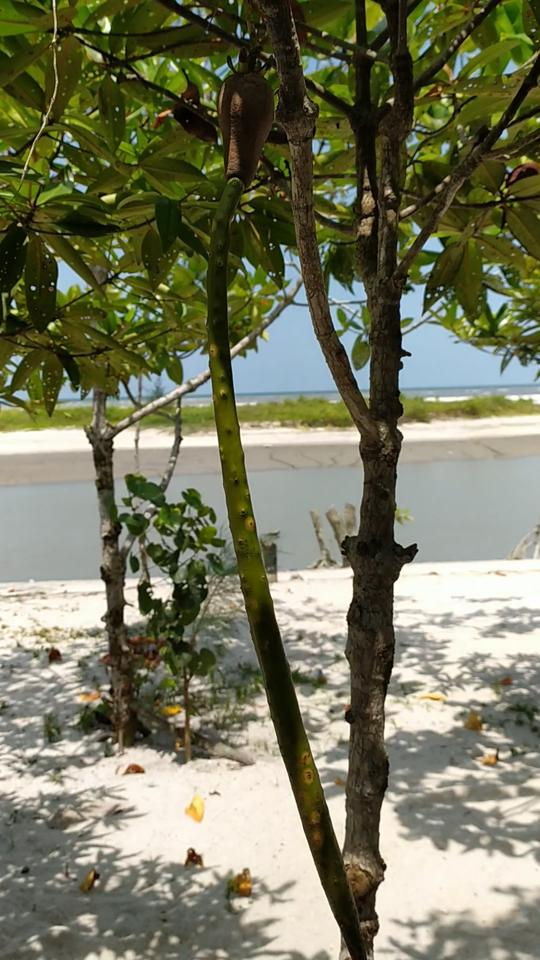setengah matang: (183, 53, 390, 959)
